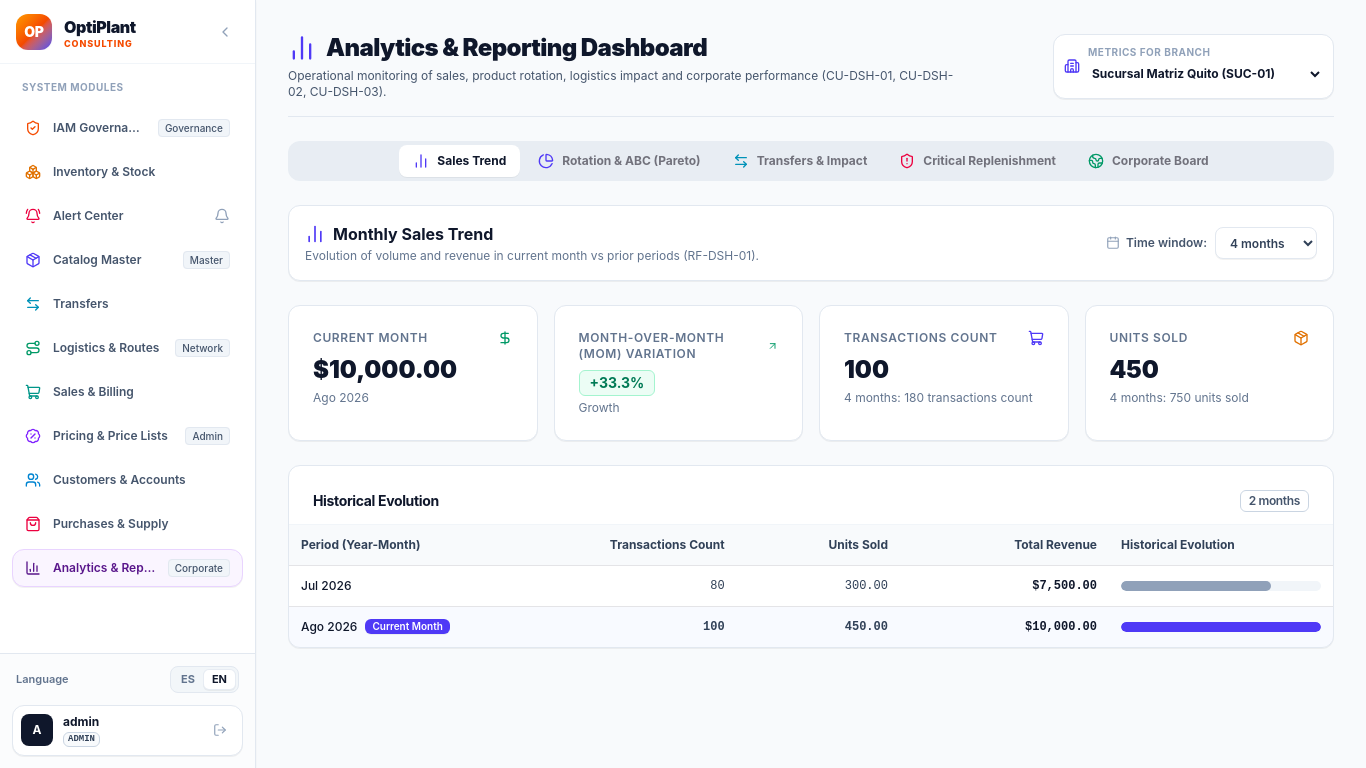
Test: AnalyticsDashboard Component Tests › navigates to Transfers & Impact tab and shows logistics summary and stock impact
The width and height of the screenshot is (1366, 768).
Click the tab "Transfers & Impact" at (800, 161), box [719,145,881,177]
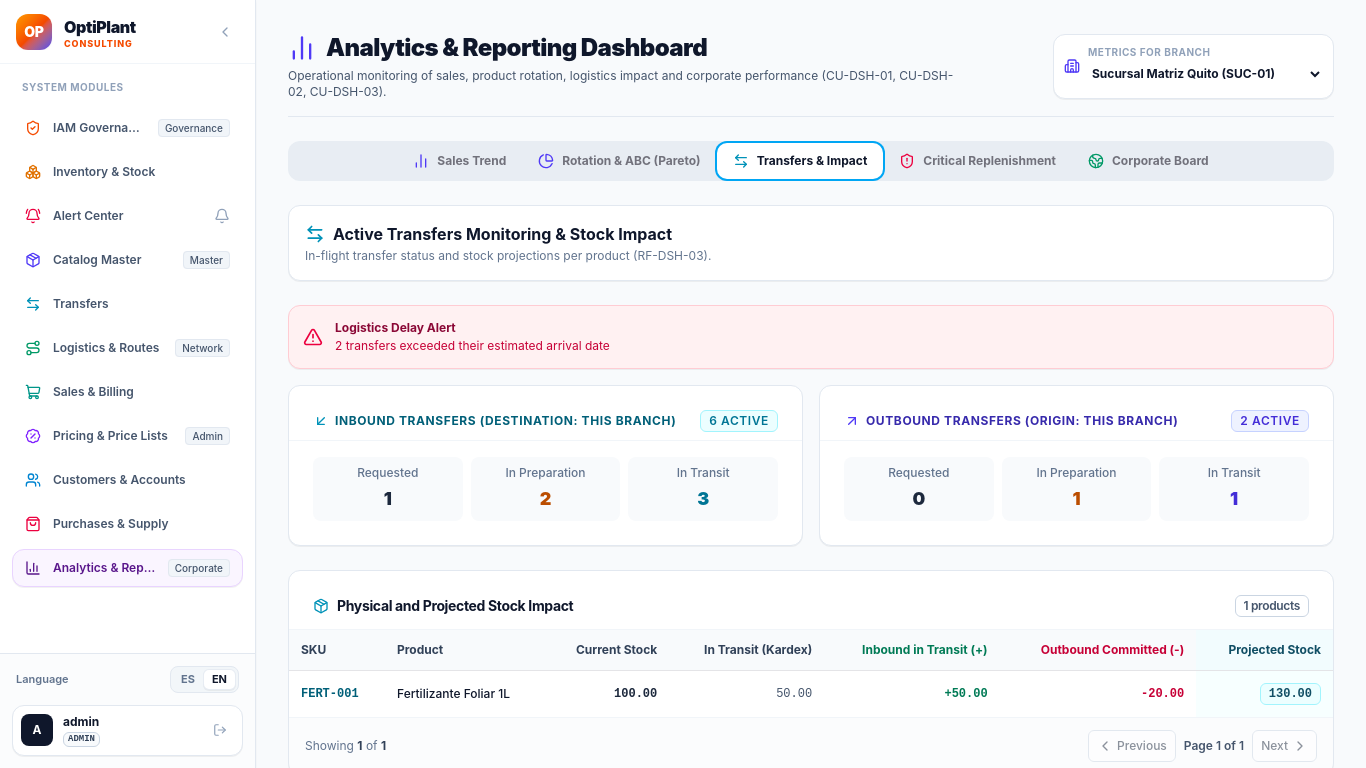
Expected: the heading "Logistics Delay Alert" is shown, [335,320,456,335]
Expected: the text "2 transfers exceeded their estimated arrival date" is shown, [335,338,610,354]
Expected: the text "FERT-001" is shown, [289,670,385,716]
